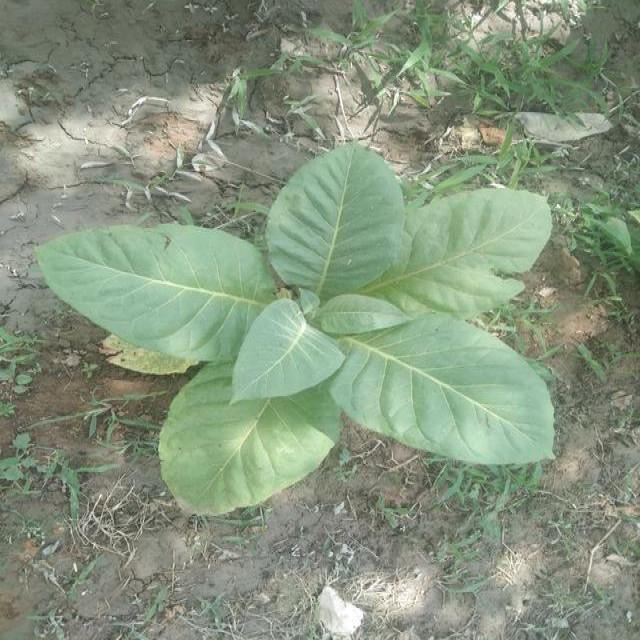crop: (45, 138, 575, 516)
